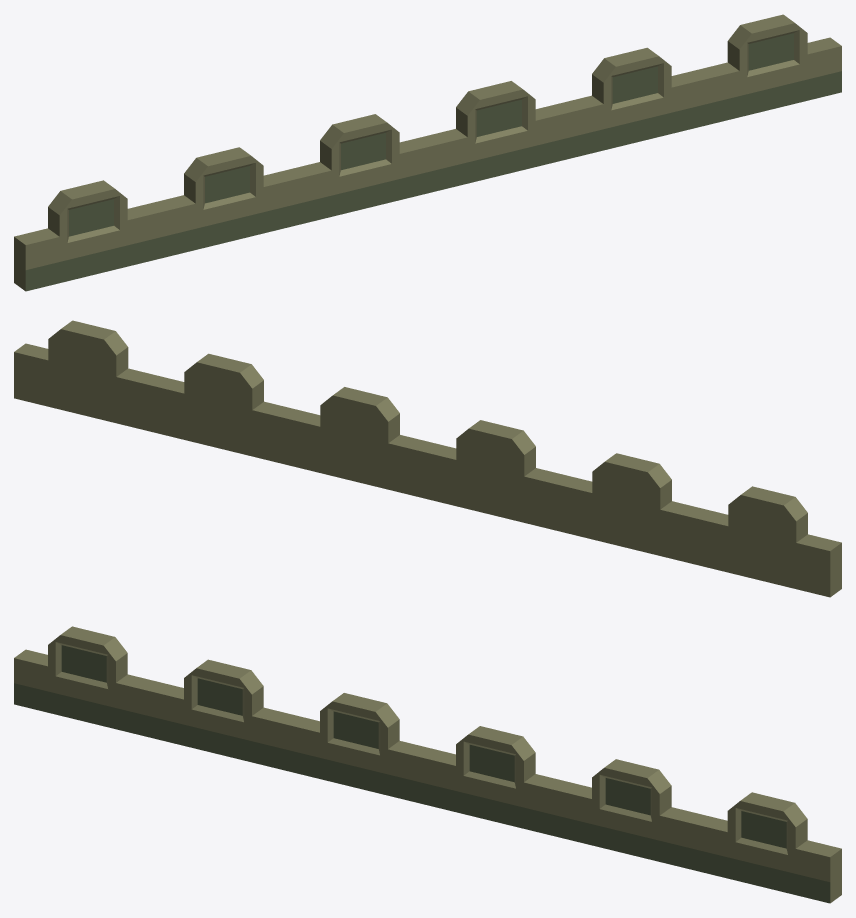
File: wall_werysmall02.fbx
3 renders of one model, top to bottom at view 1: azimuth 30°, elevation 25°; view 2: azimuth 150°, elevation 25°; view 3: azimuth 330°, elevation 25°, orthographic.
Parts seen in each view (by area): view 1: pCube393; view 2: pCube393; view 3: pCube393.
Boxes of the visible parts, left/top/right/bottom form: pCube393: left=14, top=14, right=841, bottom=291; pCube393: left=14, top=320, right=841, bottom=597; pCube393: left=14, top=626, right=841, bottom=903.
Bounding box in the file's own units: 18.17 × 1.72 × 0.4536.
